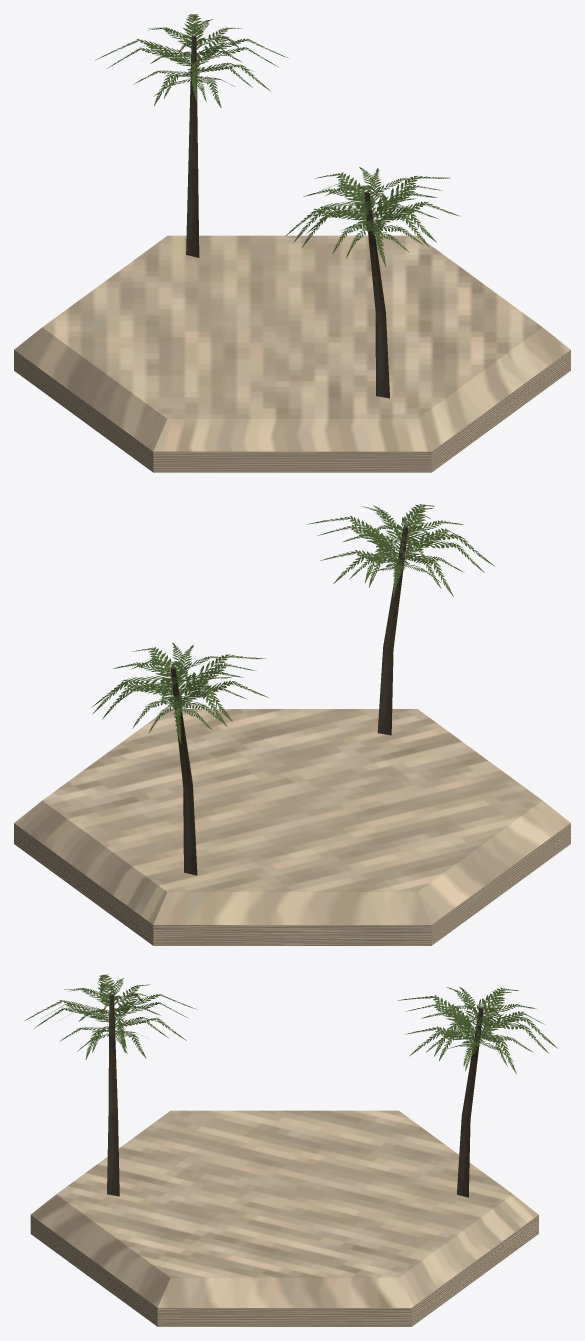
File: Island.fbx
The picture shows the model from 3 angles, top to bottom: view 1: azimuth 30°, elevation 25°; view 2: azimuth 150°, elevation 25°; view 3: azimuth 270°, elevation 25°; orthographic projection. The views are drawn at different scales.
Visible parts, largest first — view 1: TexturesCom_Branches0030_1_S.002; view 2: TexturesCom_Branches0030_1_S.002; view 3: TexturesCom_Branches0030_1_S.002.
Part boxes in pixels (x1,y1,x2,y2): TexturesCom_Branches0030_1_S.002: (14, 14, 570, 472); TexturesCom_Branches0030_1_S.002: (14, 504, 570, 945); TexturesCom_Branches0030_1_S.002: (24, 974, 557, 1326).
Size of the model in its own units: 173 by 103 by 219.
3 materials, 3 textured.
